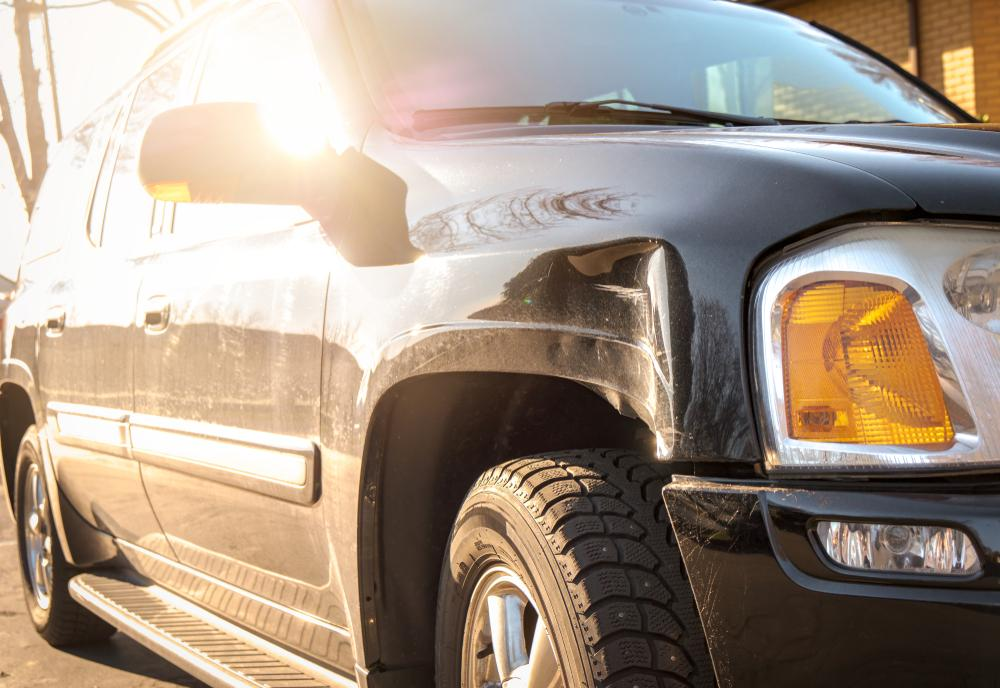dent: (523, 239, 672, 455)
